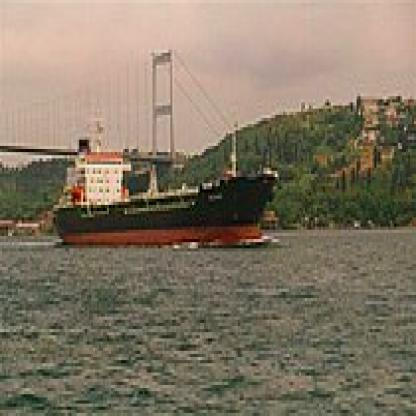Tanker: (53, 198, 275, 250)
